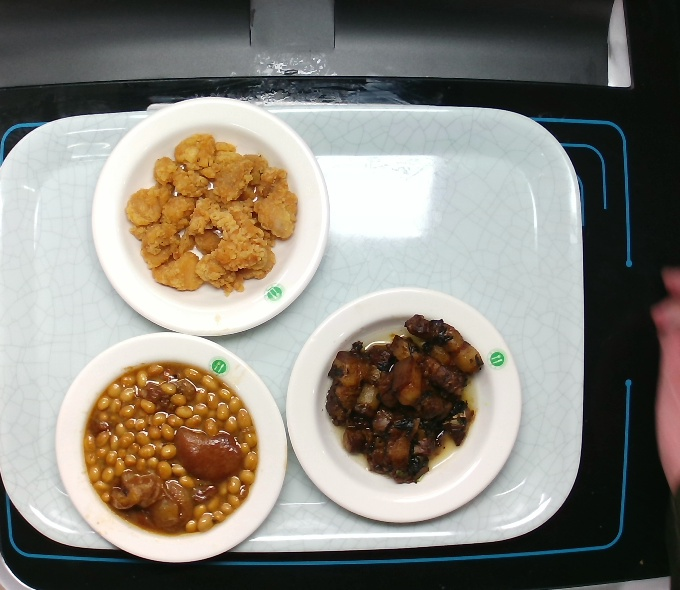wcq-GanCaiRou: (318, 311, 488, 489)
wcq-HuangDouZhuJiao: (78, 356, 263, 543)
wcq-JiMiHua: (118, 129, 301, 301)
